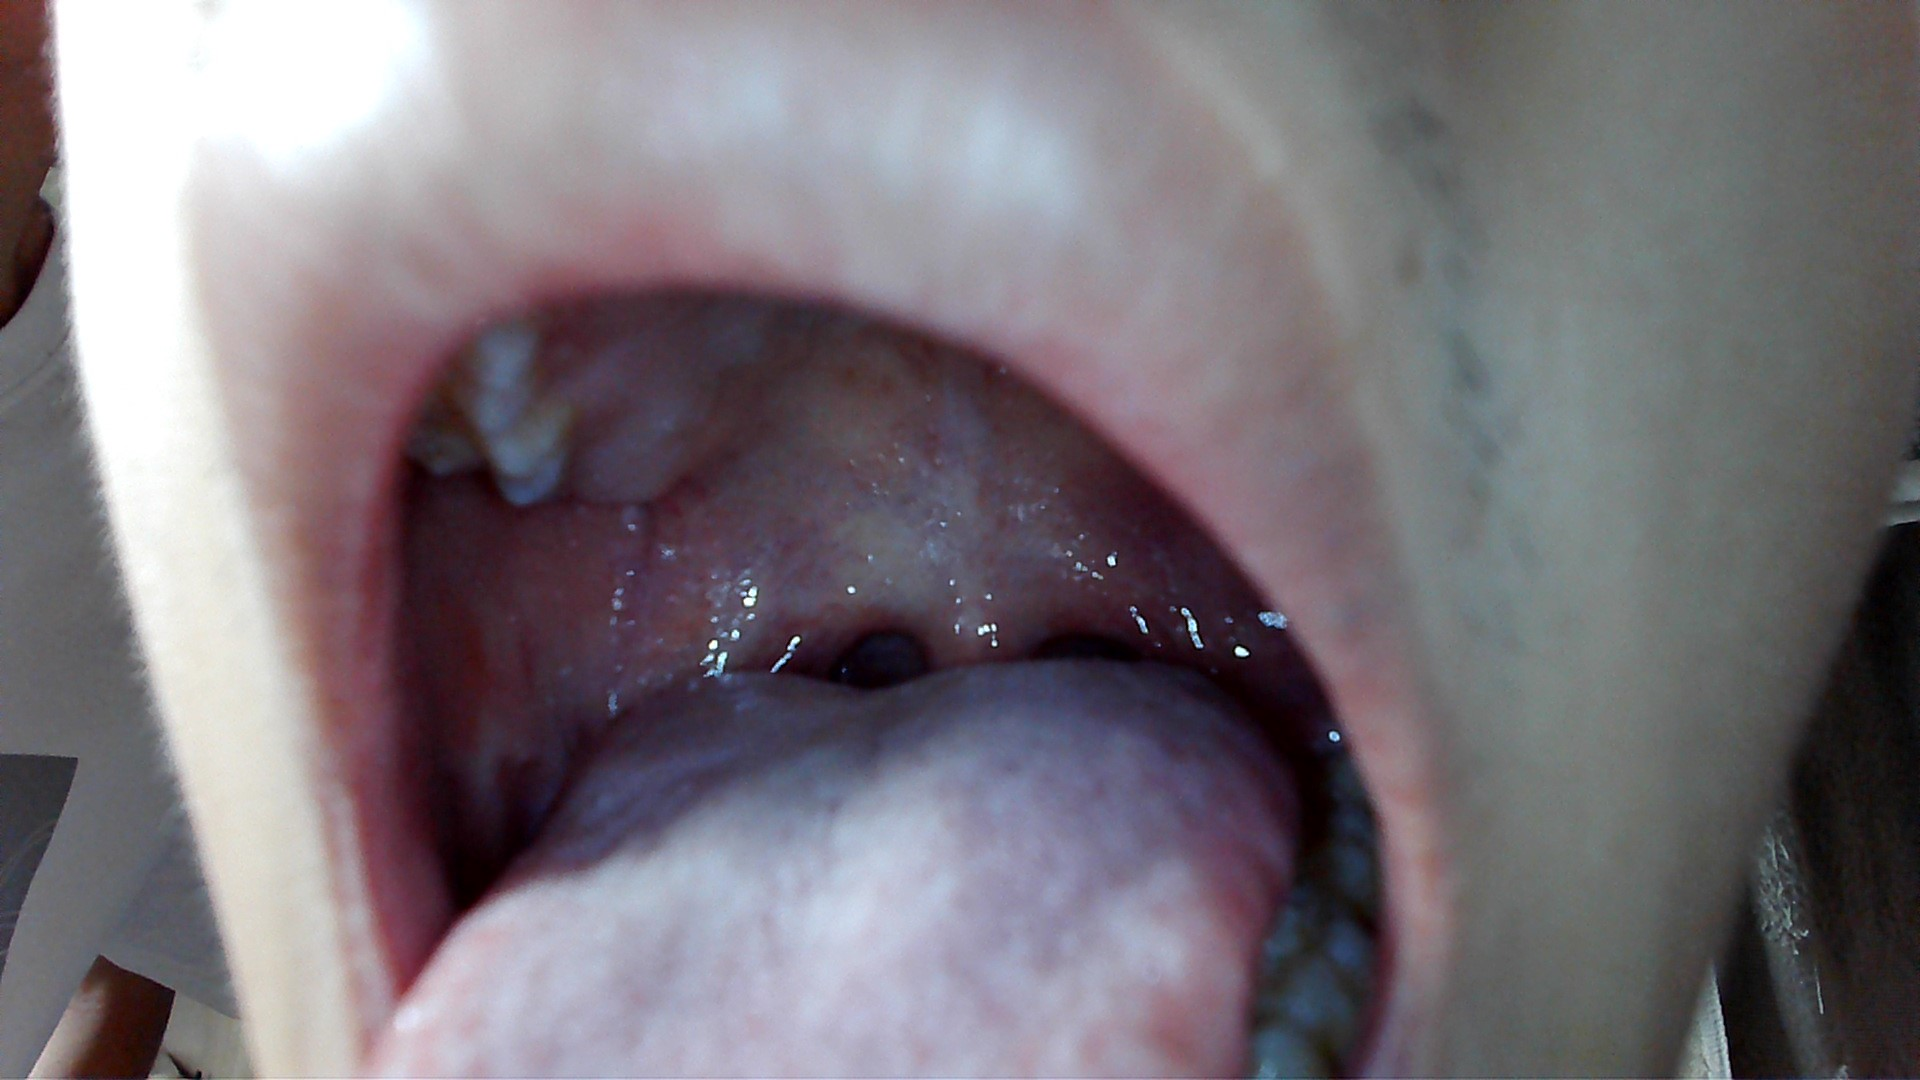throat: (786, 572, 902, 692)
